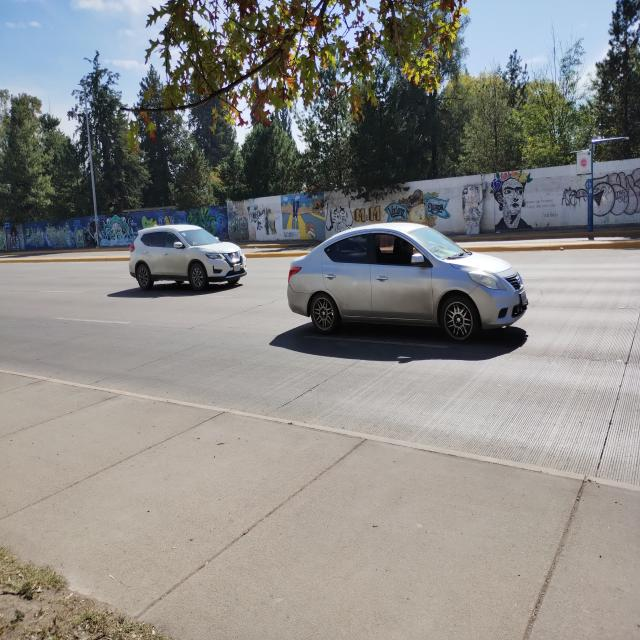Auto: (285, 223, 532, 346), (126, 223, 244, 300)
